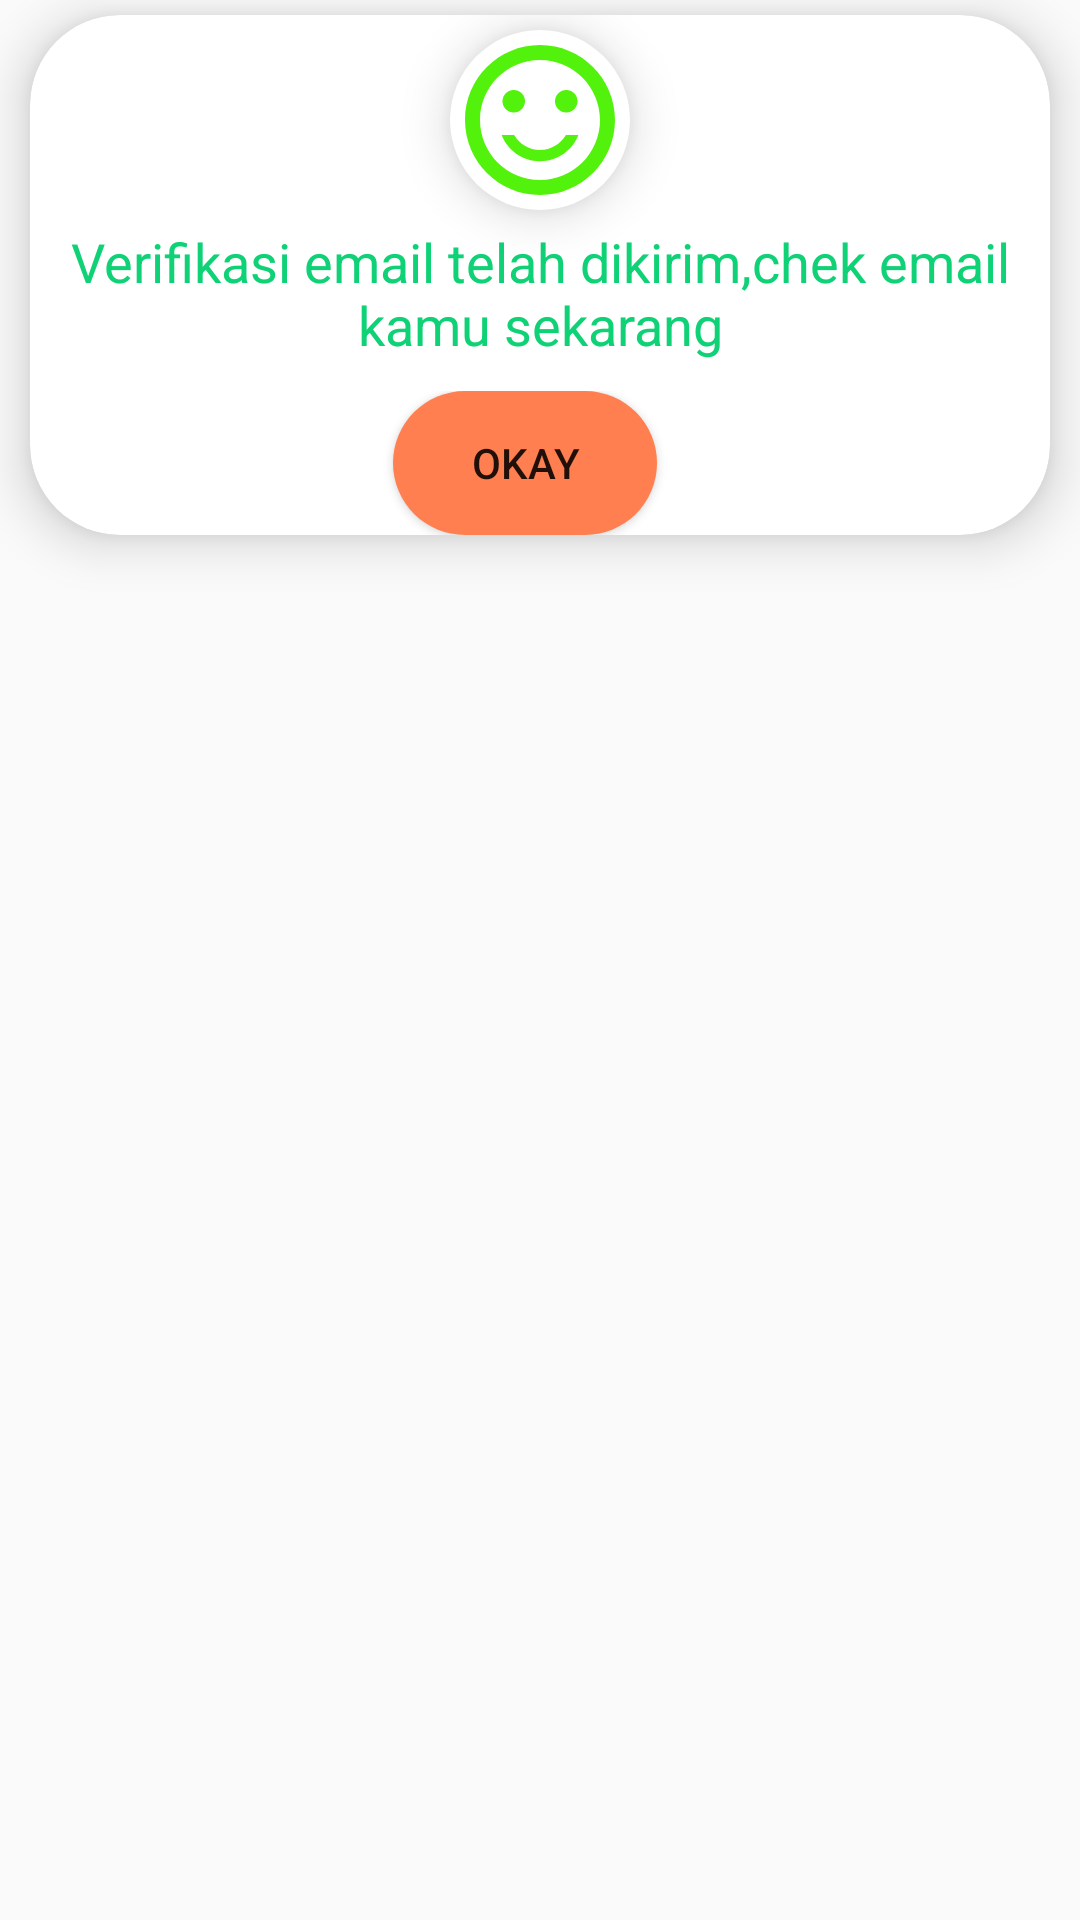

Point at icon controls on the screen. Image size 1080 × 1920, points as [x,y].
sentiment satisfied: [540,120]
